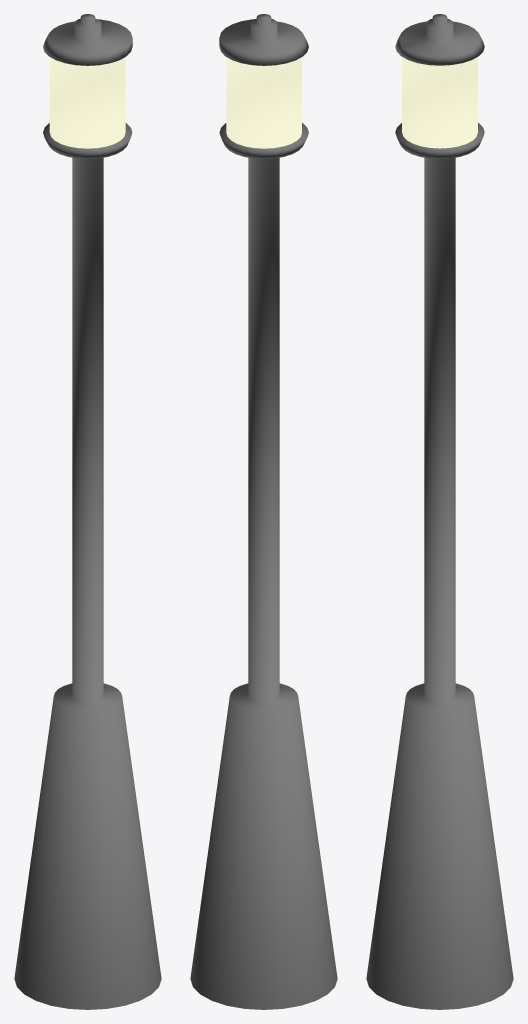
Rendered from posteLuz.glb.
The picture shows the model from 3 angles, left to right: view 1: azimuth 30°, elevation 25°; view 2: azimuth 150°, elevation 25°; view 3: azimuth 270°, elevation 25°; orthographic projection.
Parts seen in each view (by area): view 1: Círculo; view 2: Círculo; view 3: Círculo.
Boxes of the visible parts, left/top/right/bottom form: Círculo: left=14, top=14, right=161, bottom=1009; Círculo: left=190, top=14, right=337, bottom=1009; Círculo: left=366, top=14, right=513, bottom=1009.
Bounding box in the file's own units: 1.12 × 8.1 × 1.12.
